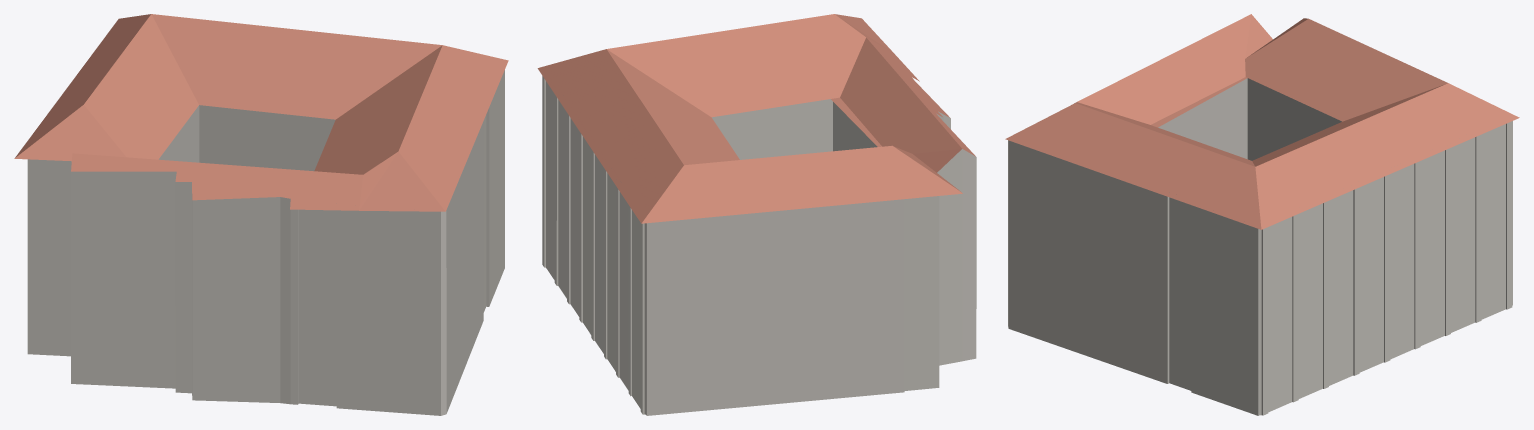
The picture shows the model from 3 angles, left to right: view 1: azimuth 30°, elevation 25°; view 2: azimuth 150°, elevation 25°; view 3: azimuth 270°, elevation 25°; orthographic projection. The views are drawn at different scales.
Visible parts, largest first — view 1: swisstopo:swissbuildings3d:b9f57e36-0b13-4f63-9a14-664d8ffd4; view 2: swisstopo:swissbuildings3d:b9f57e36-0b13-4f63-9a14-664d8ffd4; view 3: swisstopo:swissbuildings3d:b9f57e36-0b13-4f63-9a14-664d8ffd4.
Part boxes in pixels (x1,y1,x2,y2): swisstopo:swissbuildings3d:b9f57e36-0b13-4f63-9a14-664d8ffd4: (14,14,508,415); swisstopo:swissbuildings3d:b9f57e36-0b13-4f63-9a14-664d8ffd4: (537,14,976,415); swisstopo:swissbuildings3d:b9f57e36-0b13-4f63-9a14-664d8ffd4: (1005,14,1519,415).
Bounding box in the file's own units: 48.52 × 23.55 × 49.83.
